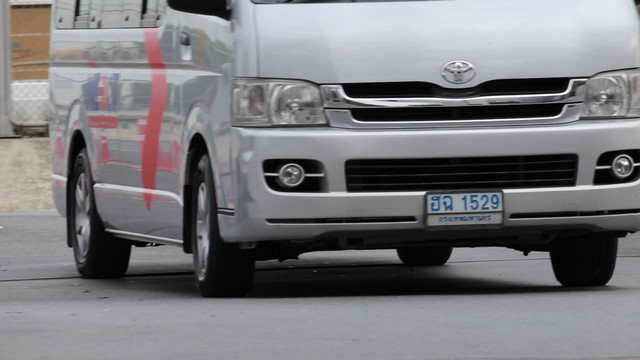out: (424, 190, 507, 230), (428, 194, 502, 225)
